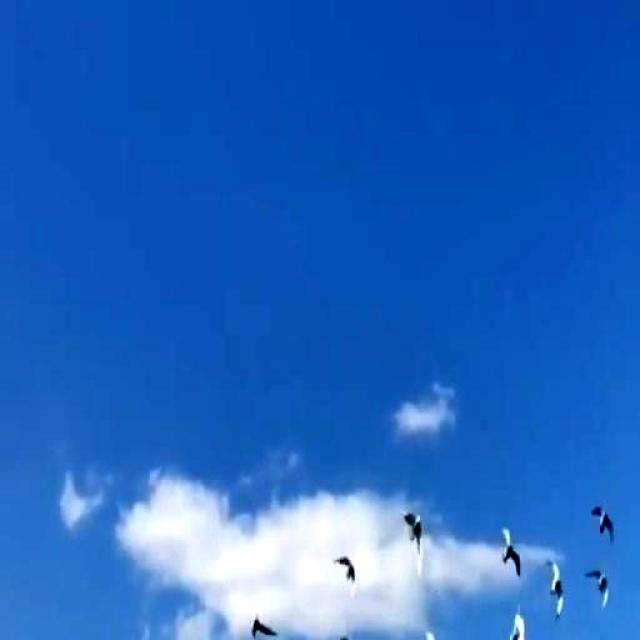airplane: (591, 496, 630, 558), (398, 506, 435, 571), (238, 589, 284, 640), (541, 542, 569, 624), (578, 558, 618, 614), (326, 546, 364, 599), (500, 518, 524, 580), (501, 601, 536, 640), (418, 620, 452, 640), (332, 626, 368, 640)
